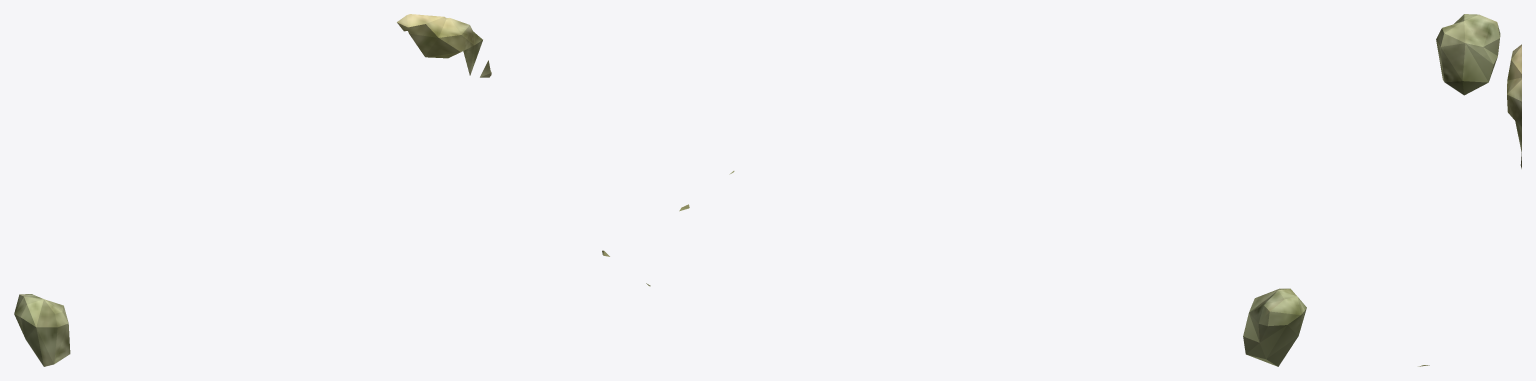
3 views of the same model, side by side, from view 1: azimuth 30°, elevation 25°; view 2: azimuth 150°, elevation 25°; view 3: azimuth 270°, elevation 25° (orthographic). The views are drawn at different scales.
Bounding box in the file's own units: 5.22 × 2.12 × 1.46.
1 material, 1 textured.
